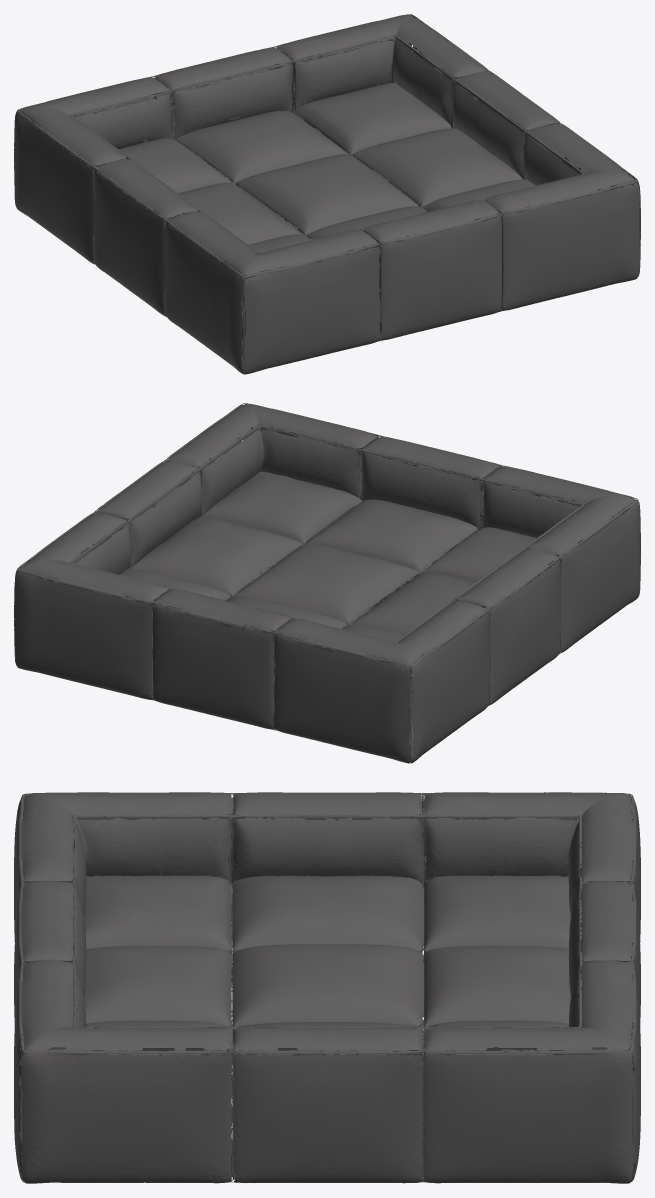
File: modular_sectional_sofa.glb
The picture shows the model from 3 angles, top to bottom: view 1: azimuth 30°, elevation 25°; view 2: azimuth 150°, elevation 25°; view 3: azimuth 270°, elevation 25°; orthographic projection. The views are drawn at different scales.
Visible parts, largest first — view 1: world; view 2: world; view 3: world.
Boxes of the visible parts, x1,y1,x2,y2 form: world: (14,14,640,374); world: (14,403,640,763); world: (14,792,640,1183).
Bounding box in the file's own units: 3 × 0.75 × 3.
Materials: 1 (1 with a texture image).
